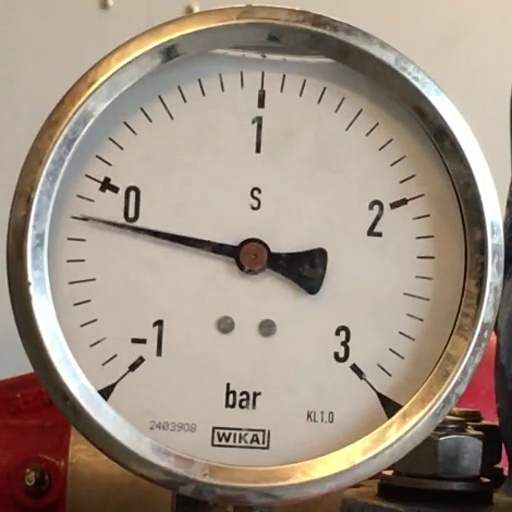base: (236, 237, 271, 275)
circle_plate: (48, 52, 466, 466)
maximum: (350, 362, 366, 380)
minimum: (128, 355, 146, 373)
number: (130, 318, 166, 358), (122, 184, 142, 224), (332, 324, 352, 364), (366, 198, 385, 238), (250, 114, 264, 154)
tip: (78, 211, 85, 219)
